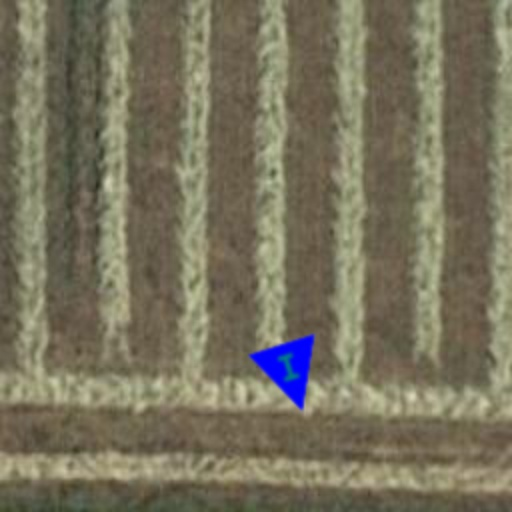triangle: (246, 332, 338, 424)
